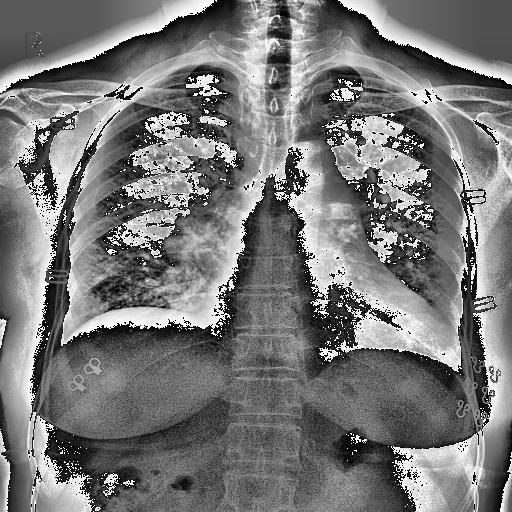0- Aortic enlargement: (287, 142, 339, 220), (285, 140, 335, 196), (294, 141, 334, 172)
3- Cardiomegaly: (200, 267, 452, 361), (204, 288, 456, 360), (202, 290, 456, 354)
5- ILD: (68, 81, 230, 319), (336, 98, 466, 314)
6- Infiltration: (134, 228, 220, 304)
9- Other lesion: (324, 182, 372, 256)
